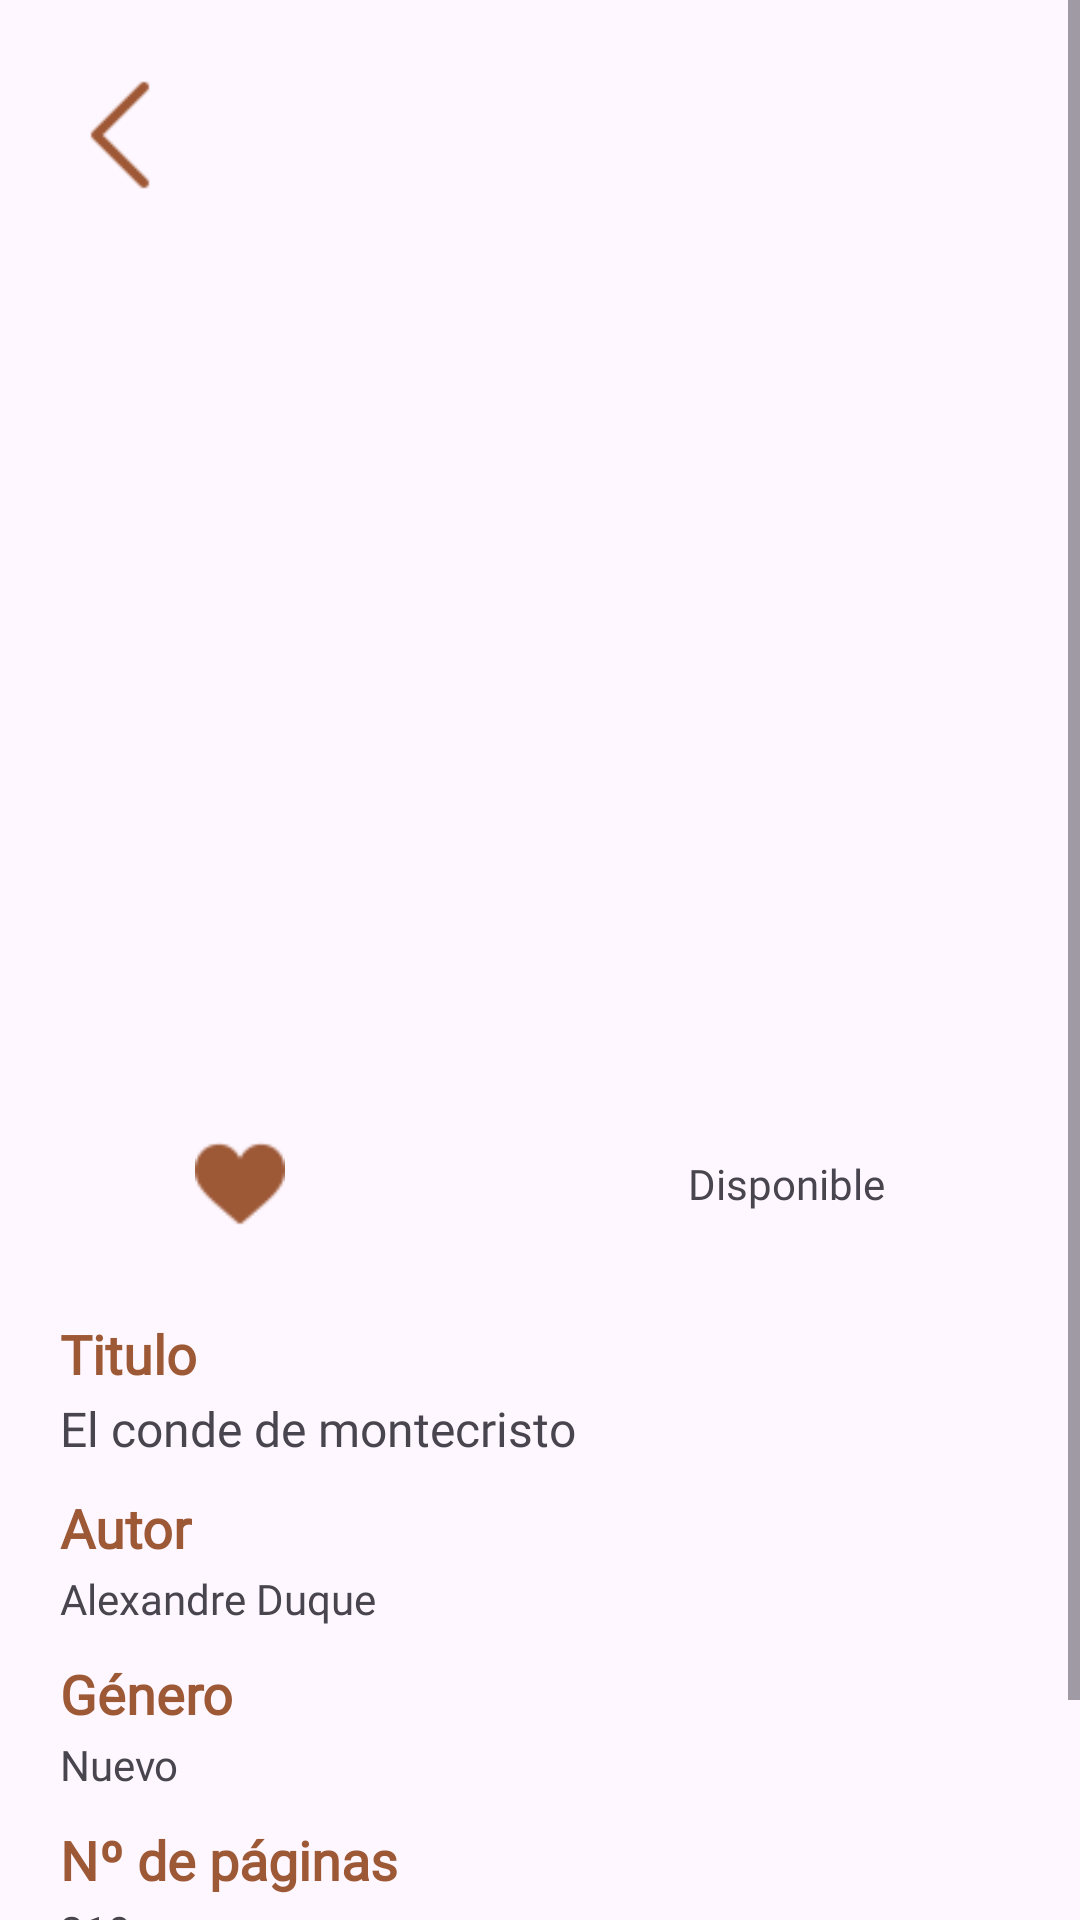

Icons on this 1080 × 1920 Android screen, each with the point to tap as [x,y]:
backk: [120,135]
relleno: [240,1183]
